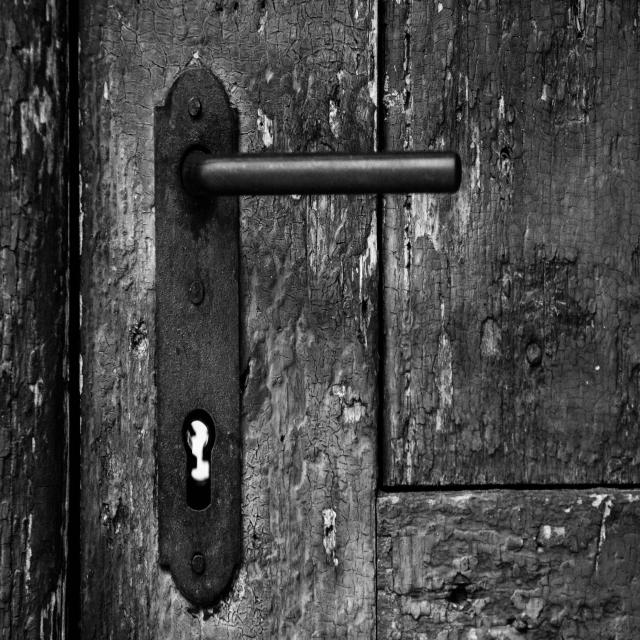door-handle: (181, 150, 461, 201)
